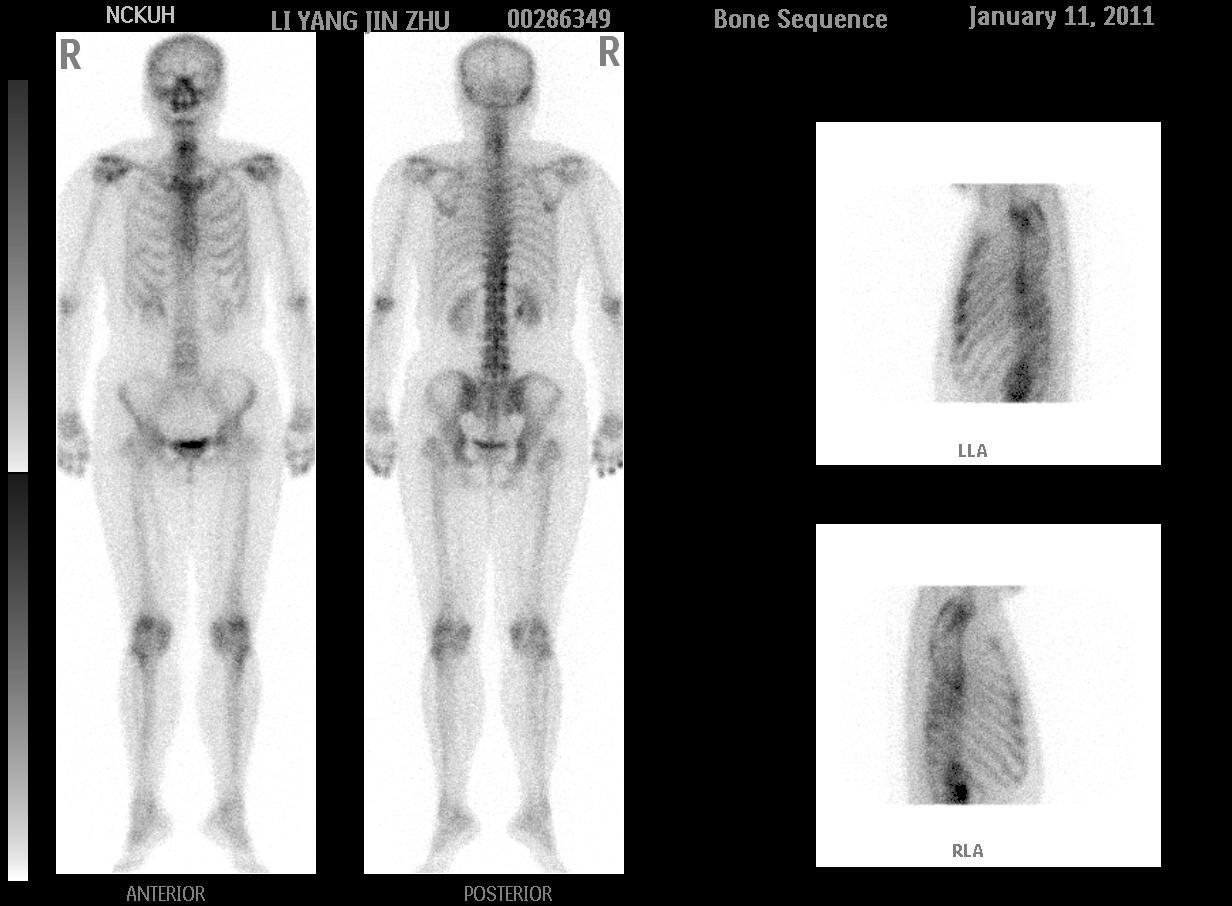person: (55, 31, 625, 874)
